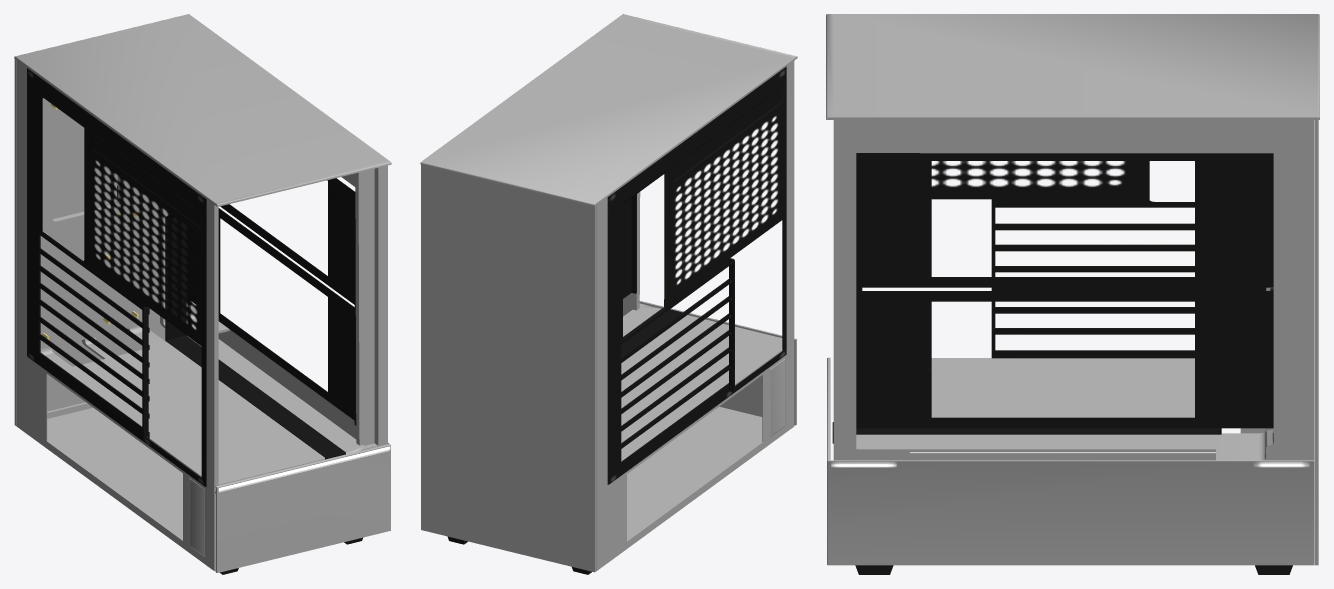
File: case-lianli-o11d-evo_lod1.glb
3 renders of one model, left to right at view 1: azimuth 30°, elevation 25°; view 2: azimuth 150°, elevation 25°; view 3: azimuth 270°, elevation 25°, orthographic. The views are drawn at different scales.
Parts seen in each view (by area): view 1: body; view 2: body; view 3: body.
Part boxes in pixels (x1=…): body: x1=14, y1=14, x2=391, y2=574; body: x1=420, y1=14, x2=797, y2=574; body: x1=826, y1=14, x2=1319, y2=574.
Bounding box in the file's own units: 0.23 × 0.47 × 0.45.
3 materials, 1 textured.
